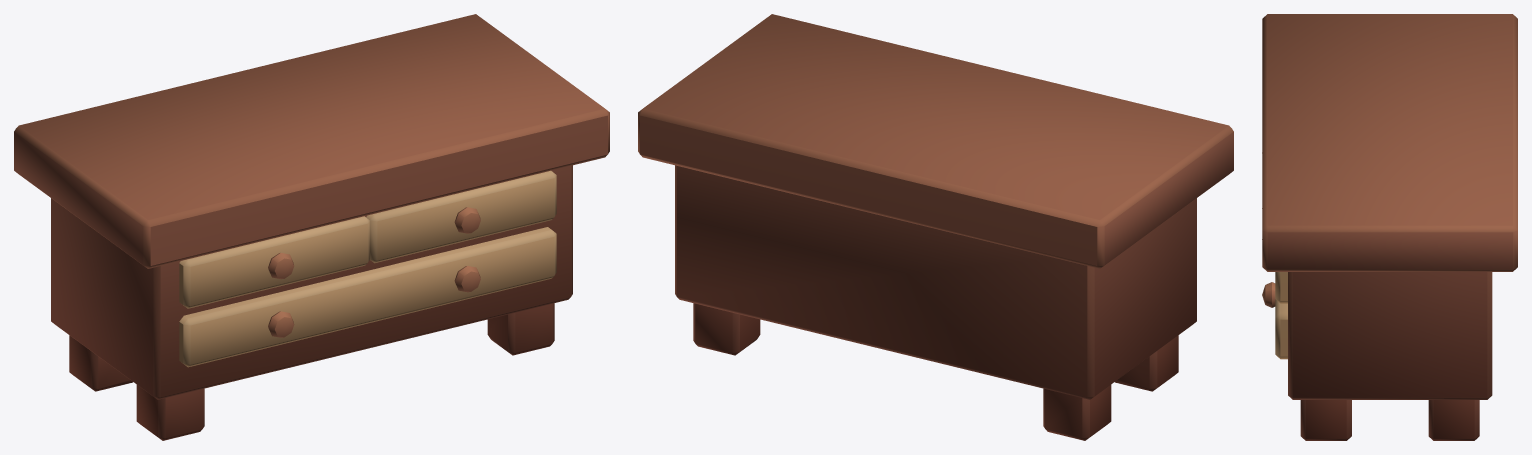
Rendered from K_cabinet_medium.glb.
The picture shows the model from 3 angles, left to right: view 1: azimuth 30°, elevation 25°; view 2: azimuth 150°, elevation 25°; view 3: azimuth 270°, elevation 25°; orthographic projection. The views are drawn at different scales.
Visible parts, largest first — view 1: cabinet_medium; view 2: cabinet_medium; view 3: cabinet_medium.
Boxes of the visible parts, x1,y1,x2,y2 form: cabinet_medium: (14,14,609,440); cabinet_medium: (638,14,1233,440); cabinet_medium: (1262,14,1517,440).
Bounding box in the file's own units: 2 × 1 × 1.
